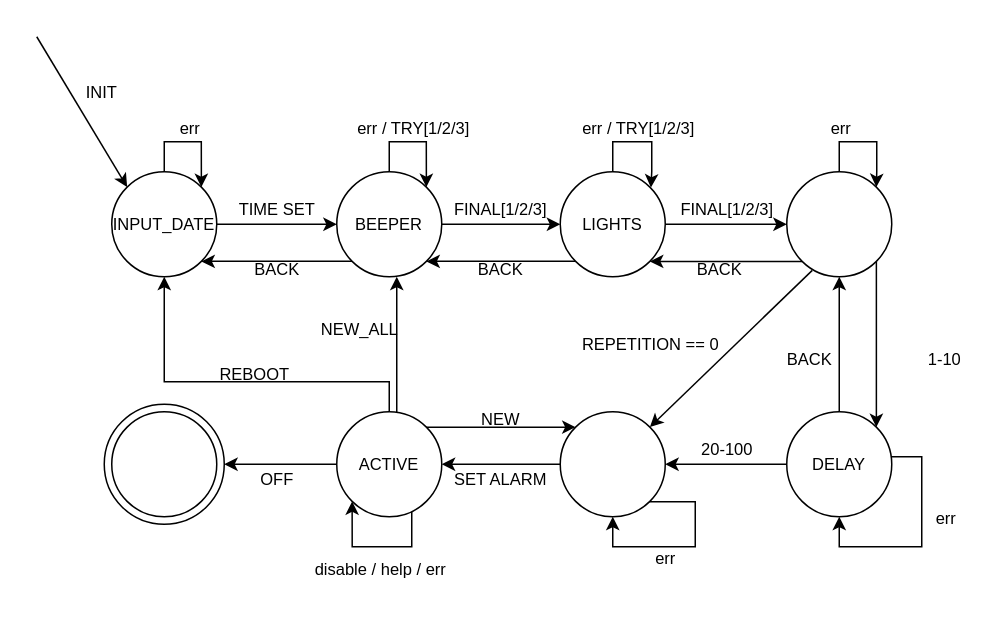
This 1008x618 diagram has some shape labels left out. The shapes that lost their labels are listed below. From the top down, each one's box as (x1, y1, x2, y2) in pixels, then its label:
(785, 170, 892, 277): REPETITION
(110, 410, 217, 517): OFF-LINE
(559, 410, 665, 517): ALARM
